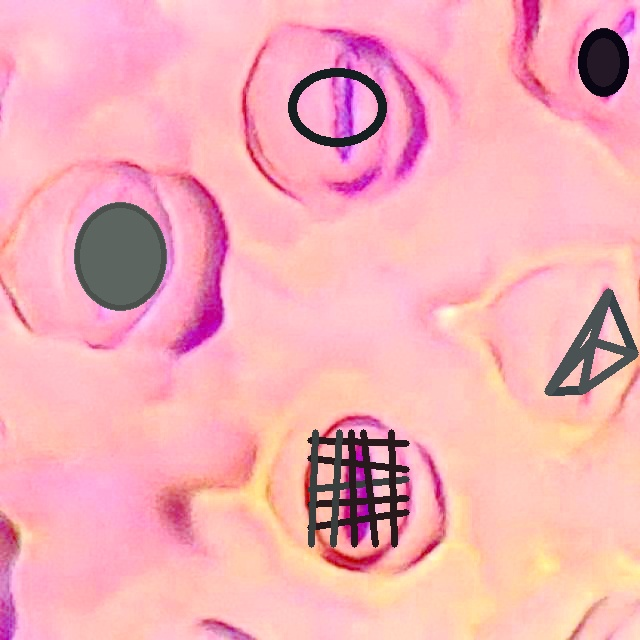open: (307, 429, 409, 546), (73, 201, 167, 311), (545, 288, 638, 394), (287, 67, 387, 147), (578, 28, 628, 97)
